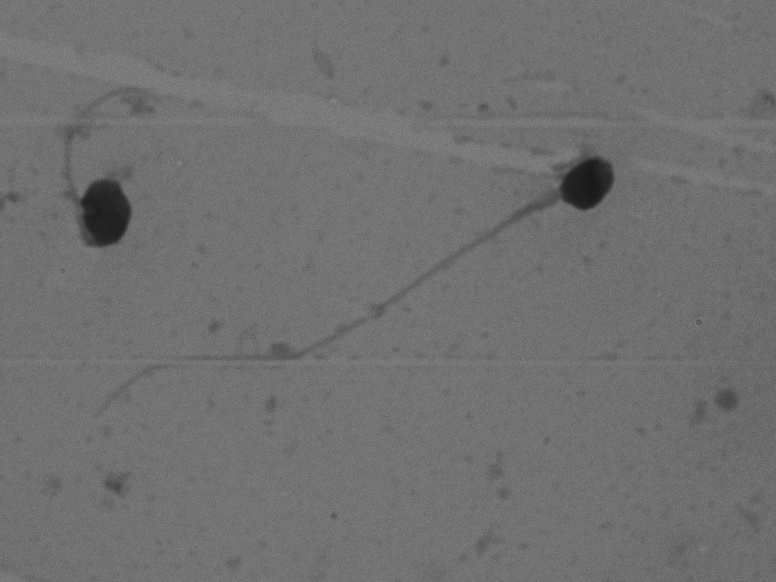Abnormal: (40, 125, 649, 449), (28, 59, 190, 266)
